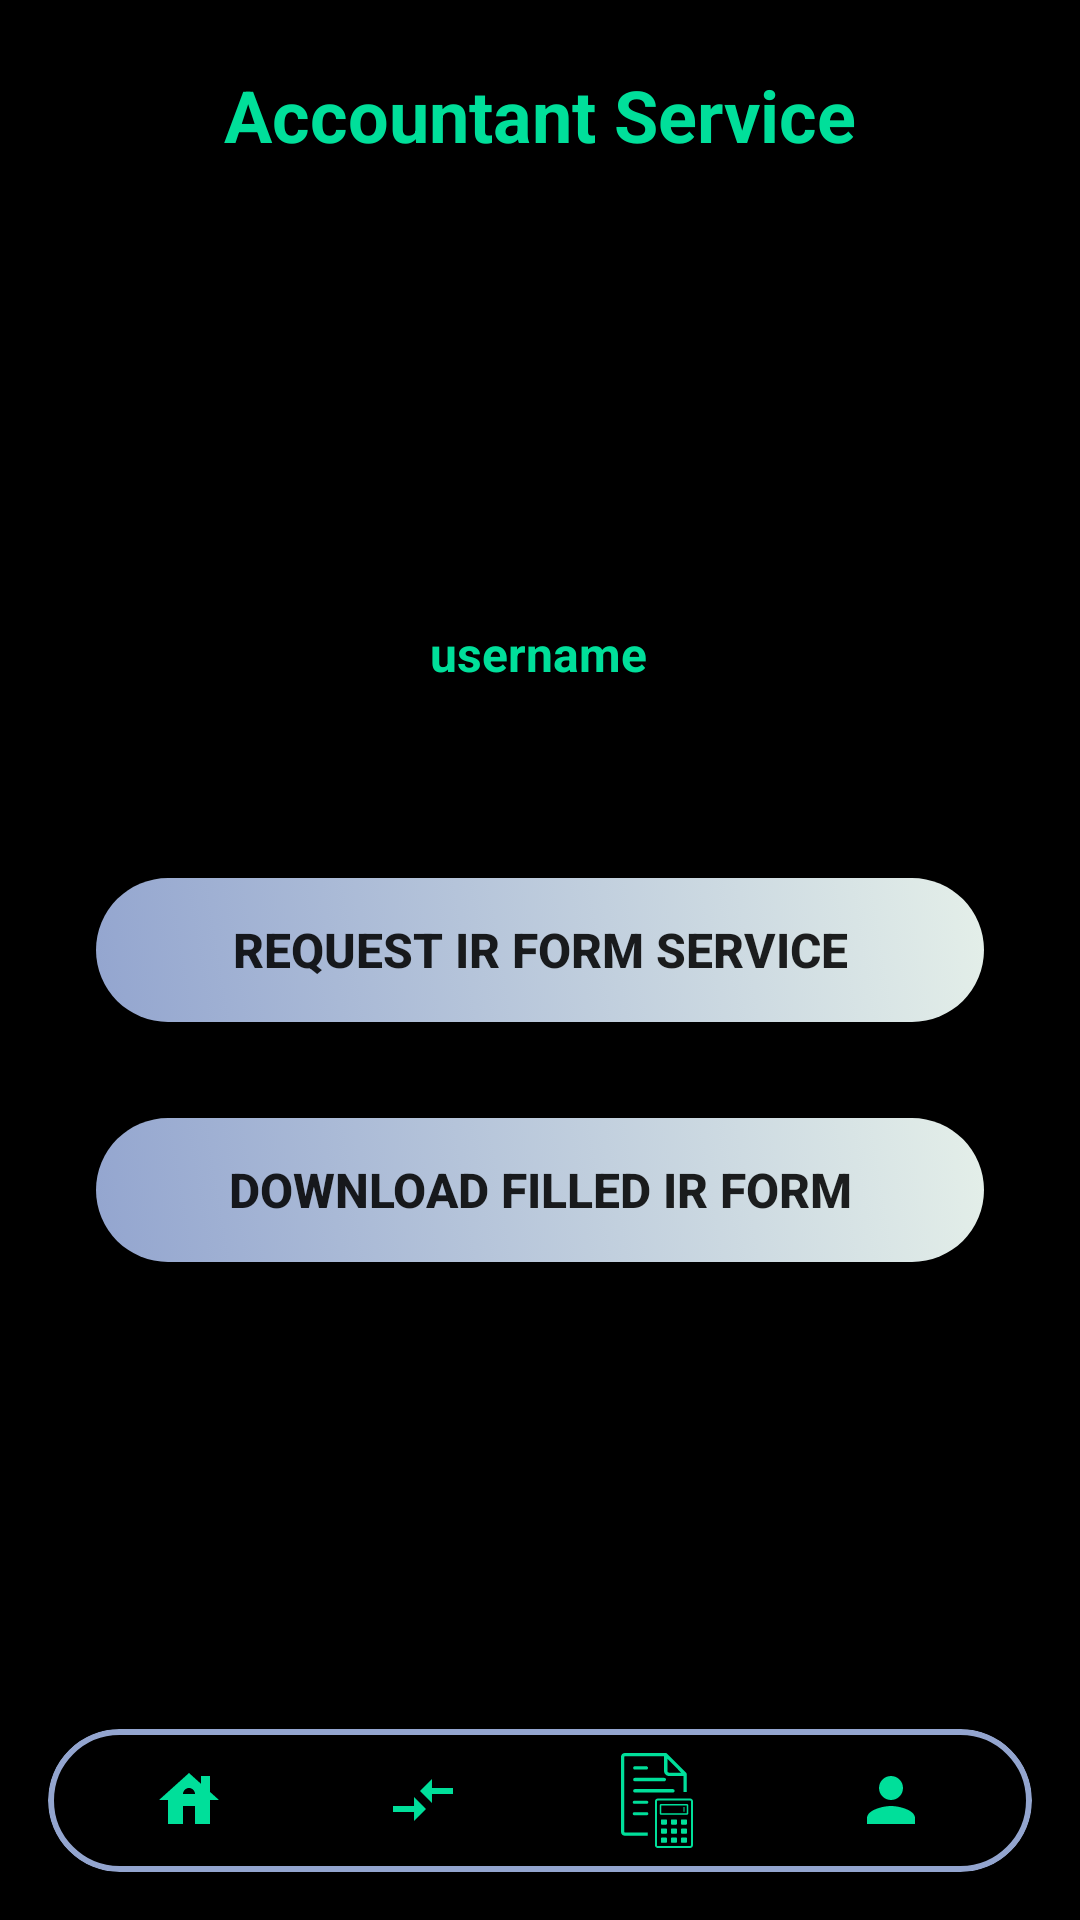

Icons on this 1080w x 1920h Android screen, each with its box as (x1, y1, x2, y2):
Home: (159, 1773, 219, 1824)
Transactions: (393, 1779, 453, 1821)
User Profile: (867, 1776, 915, 1824)
